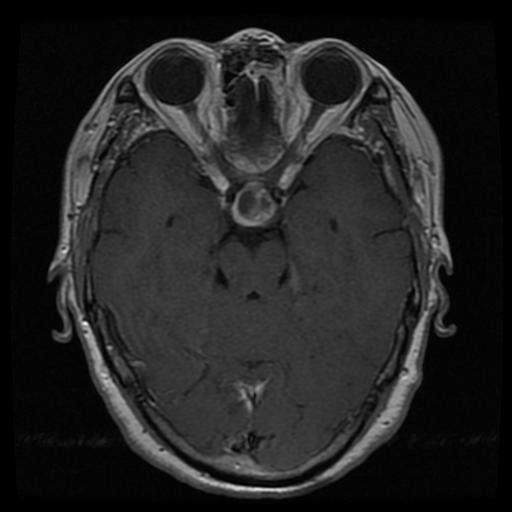Tumour-Pituitary: (226, 180, 280, 231)
